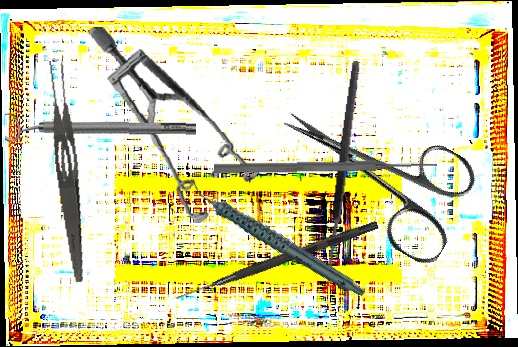Dressing Forceps: (43, 58, 94, 284)
Fixation Ring: (4, 111, 197, 146)
Handpiece: (185, 147, 368, 330)
Hook Surgical: (174, 217, 379, 306), (323, 60, 372, 287)
Iris Scissors: (257, 71, 488, 270)
Pusher: (213, 158, 438, 176)
Speculum: (87, 13, 267, 232)
